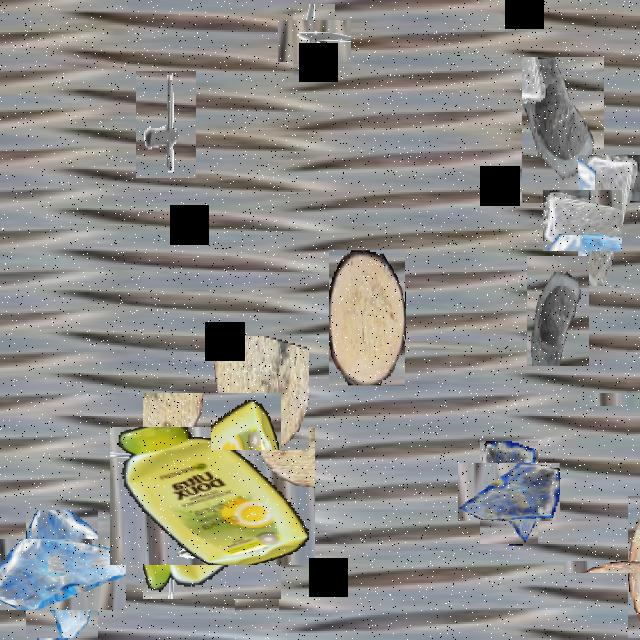glass: (522, 57, 604, 203), (12, 524, 112, 624), (560, 172, 640, 268), (527, 256, 589, 366), (469, 452, 549, 533), (622, 144, 640, 293)
metal: (136, 71, 196, 178), (134, 462, 198, 526), (235, 535, 279, 613), (285, 12, 343, 70), (603, 370, 640, 429)
plastic: (126, 410, 298, 582)
wood: (211, 336, 309, 450), (329, 250, 405, 386), (595, 528, 640, 605)
